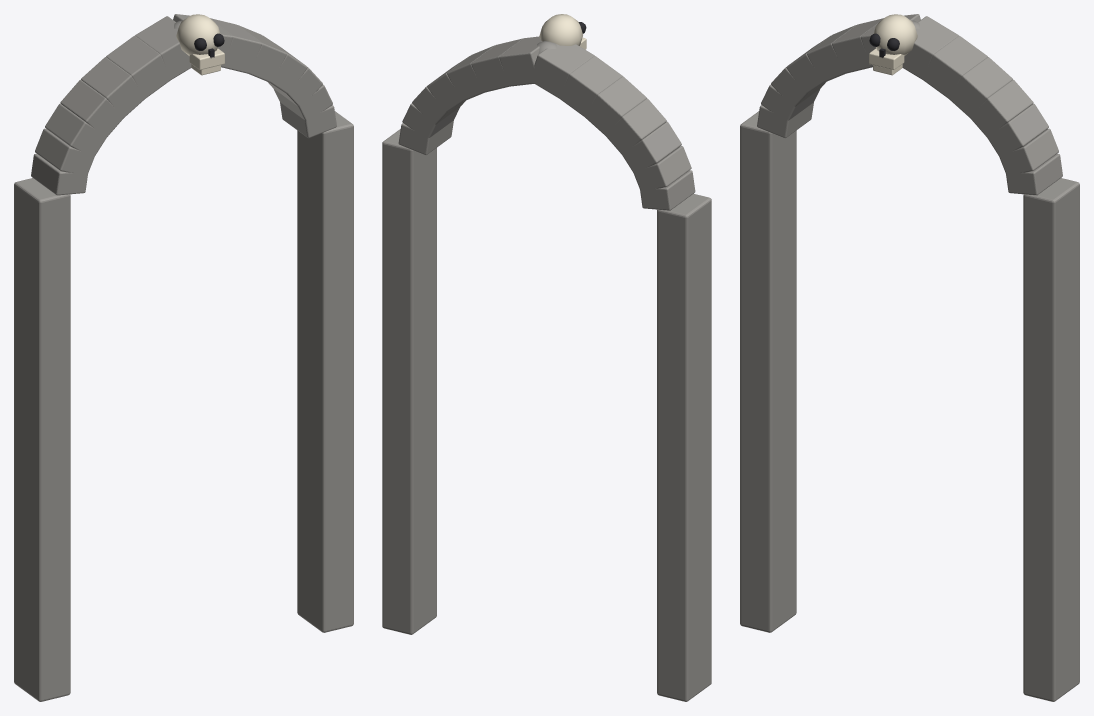
File: door_deco_skull_keystone.glb
The picture shows the model from 3 angles, left to right: view 1: azimuth 30°, elevation 25°; view 2: azimuth 150°, elevation 25°; view 3: azimuth 330°, elevation 25°; orthographic projection. The views are drawn at different scales.
Visible parts, largest first — view 1: GD_door_deco_skull_keystone__m0, GD_door_deco_skull_keystone__m1; view 2: GD_door_deco_skull_keystone__m0, GD_door_deco_skull_keystone__m1; view 3: GD_door_deco_skull_keystone__m0, GD_door_deco_skull_keystone__m1.
Boxes of the visible parts, x1=… form: GD_door_deco_skull_keystone__m0: x1=14, y1=14, x2=353, y2=701; GD_door_deco_skull_keystone__m1: x1=176, y1=14, x2=224, y2=75; GD_door_deco_skull_keystone__m0: x1=382, y1=36, x2=711, y2=701; GD_door_deco_skull_keystone__m1: x1=539, y1=14, x2=586, y2=49; GD_door_deco_skull_keystone__m0: x1=740, y1=14, x2=1079, y2=701; GD_door_deco_skull_keystone__m1: x1=869, y1=14, x2=917, y2=75.
Bounding box in the file's own units: 1.38 × 2.72 × 0.3176.
